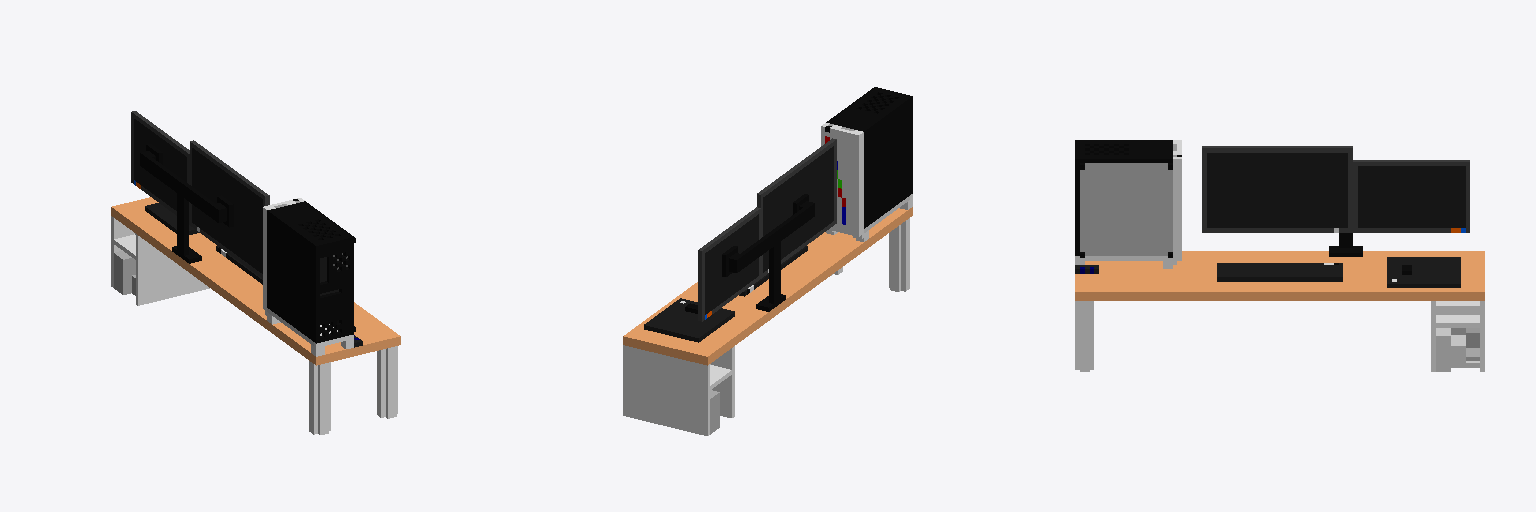
3 renders of one model, left to right at view 1: azimuth 30°, elevation 25°; view 2: azimuth 150°, elevation 25°; view 3: azimuth 270°, elevation 25°, orthographic.
Visible parts, largest first — view 1: object 1; view 2: object 1; view 3: object 1.
Part boxes in pixels (bbox=[...]): object 1: bbox=[111, 111, 400, 434]; object 1: bbox=[623, 87, 912, 435]; object 1: bbox=[1075, 140, 1484, 371].
Bounding box in the file's own units: 2 × 4.3 × 8.4.
1 materials, 1 textured.